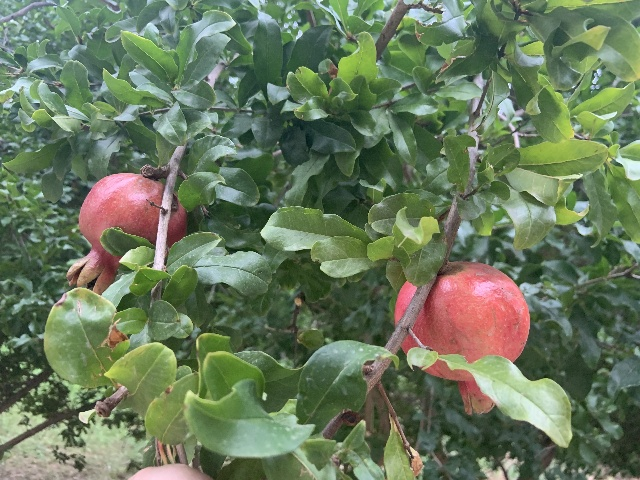ripe: (395, 263, 529, 414), (65, 171, 189, 293)
